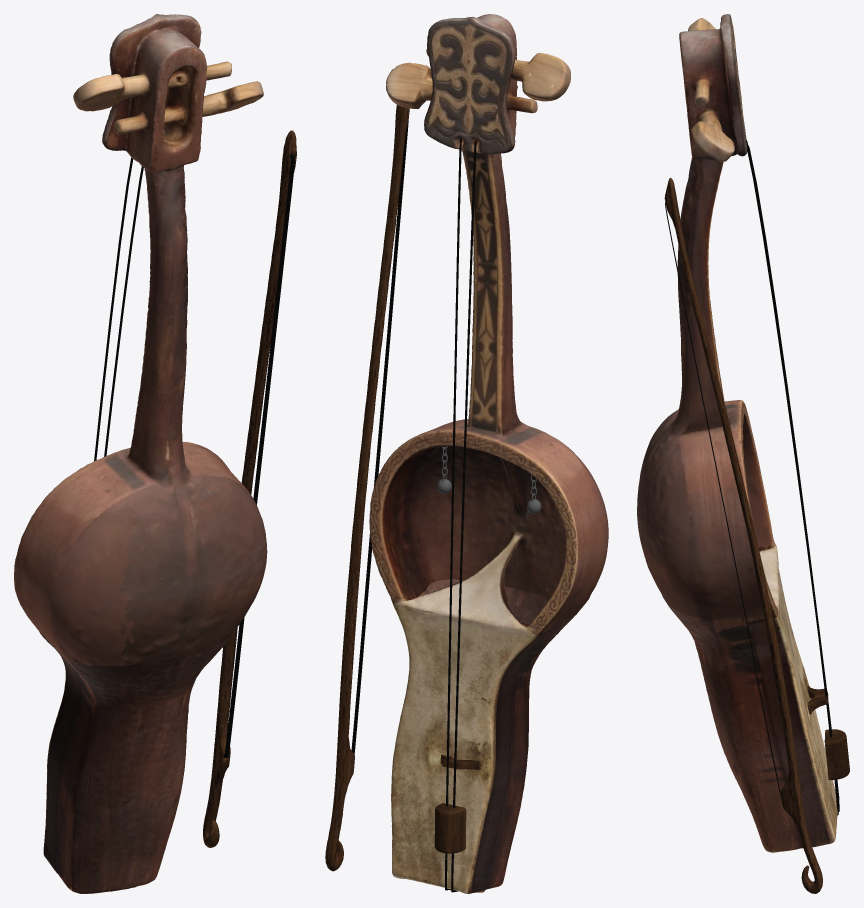
Rendered from kazakh_qobyz_kobyz.glb.
3 views of the same model, side by side, from view 1: azimuth 30°, elevation 25°; view 2: azimuth 150°, elevation 25°; view 3: azimuth 270°, elevation 25° (orthographic). The views are drawn at different scales.
Size of the model in its own units: 13.85 by 49.8 by 11.62.
6 materials, 4 textured.
